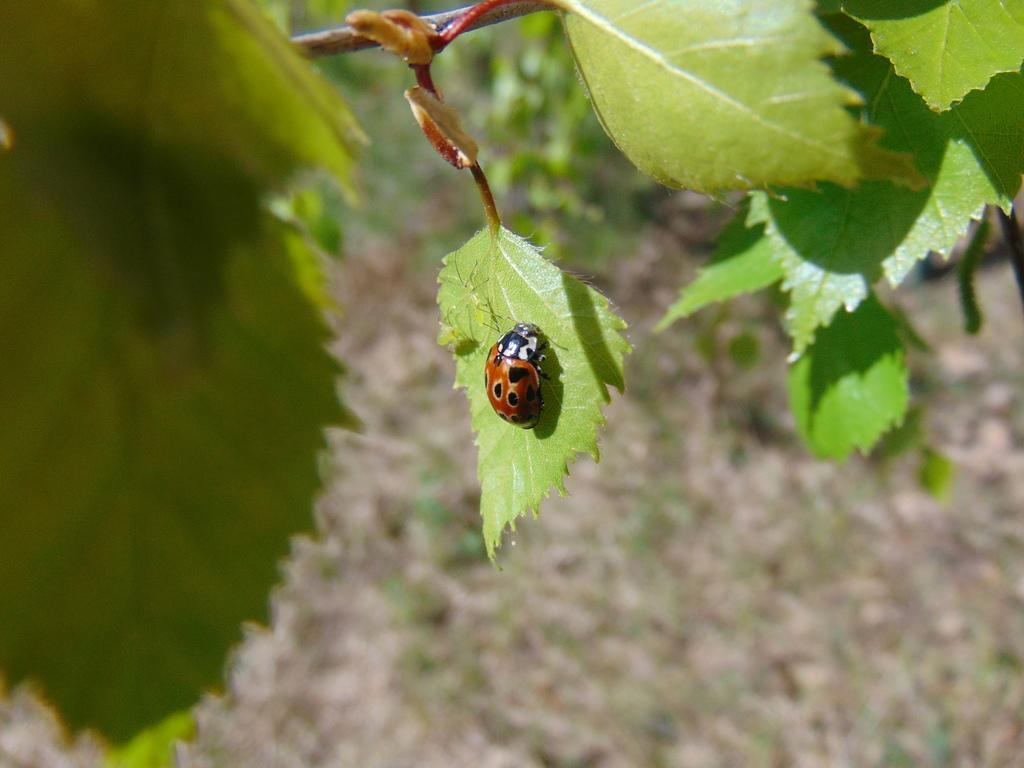ladybug: (483, 315, 556, 433)
